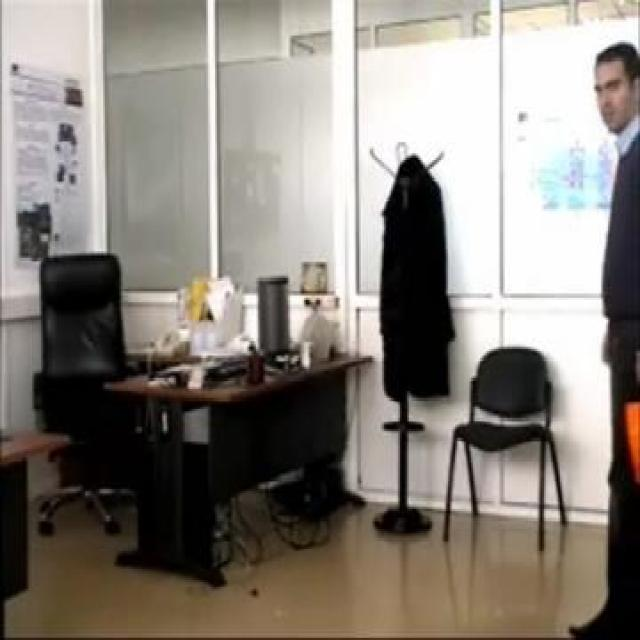other: (619, 390, 637, 484)
